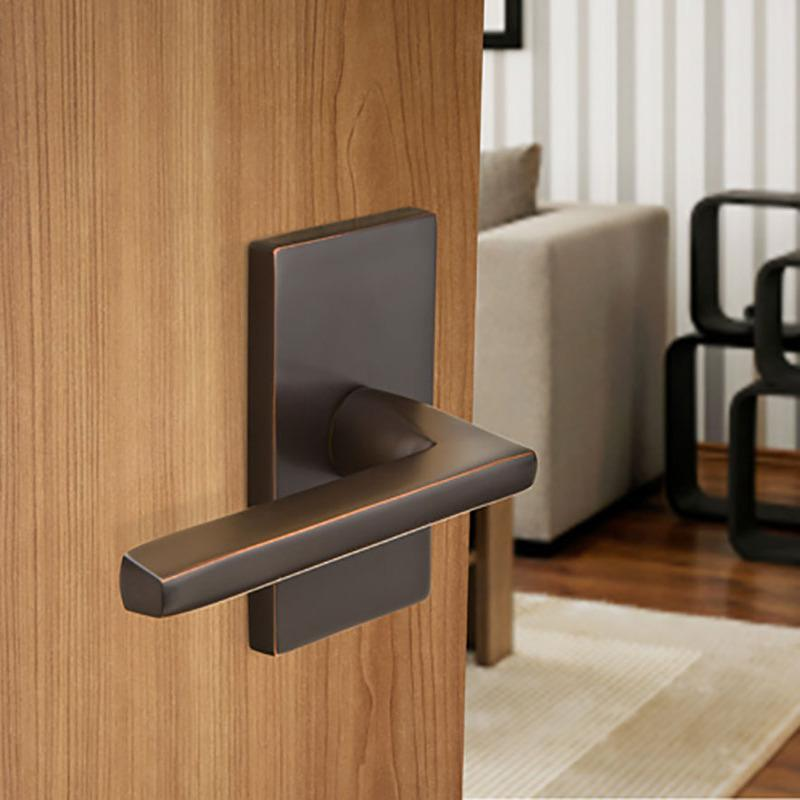doorhandle: (64, 347, 597, 662)
